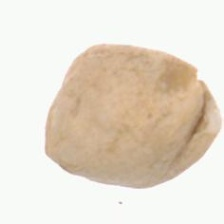L3: (186, 63, 219, 135)
L4: (44, 42, 220, 188)
